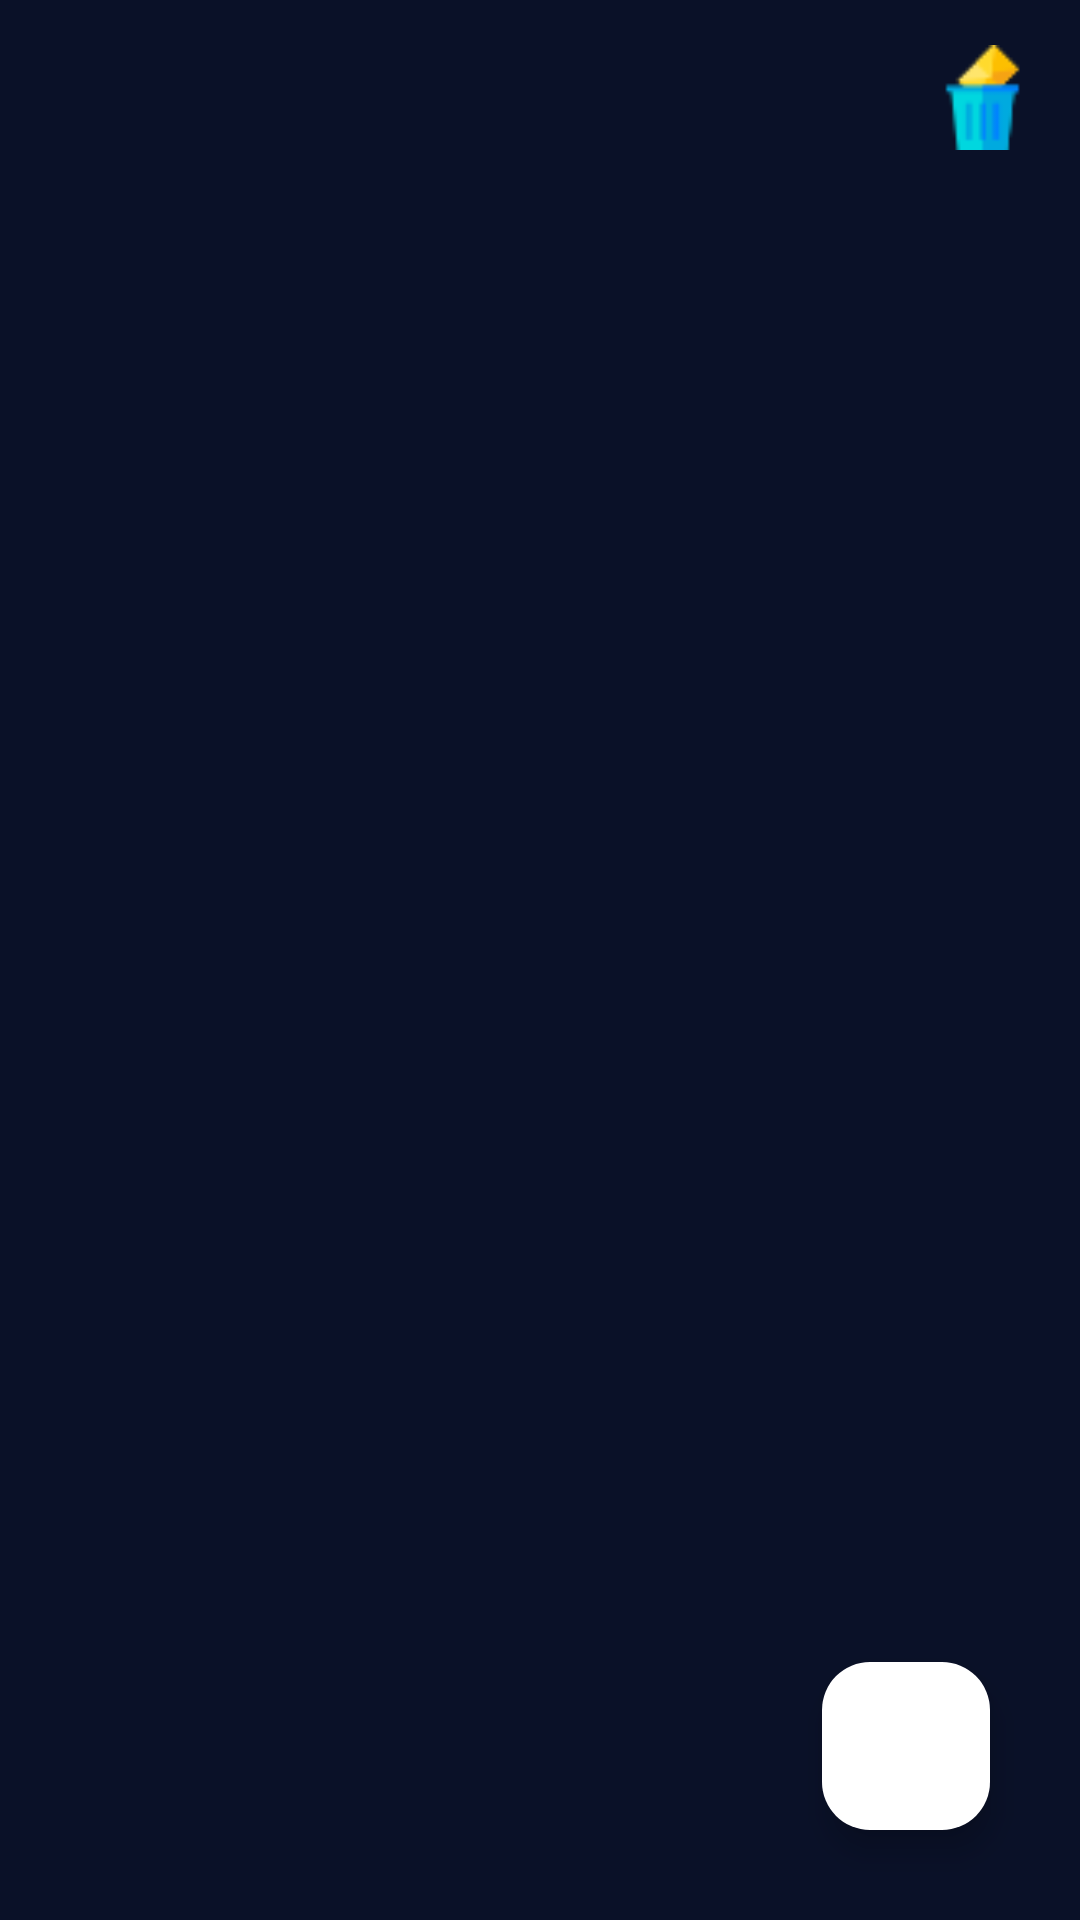

Named icons in this screenshot (1080x1920) and their centers, point (x, y):
delete: point (982, 97)
